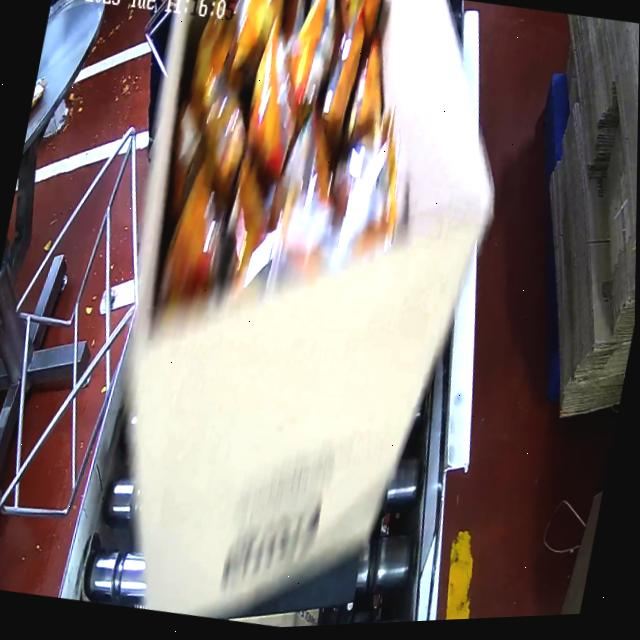FRENCH_CHEESE: (149, 0, 409, 292)
